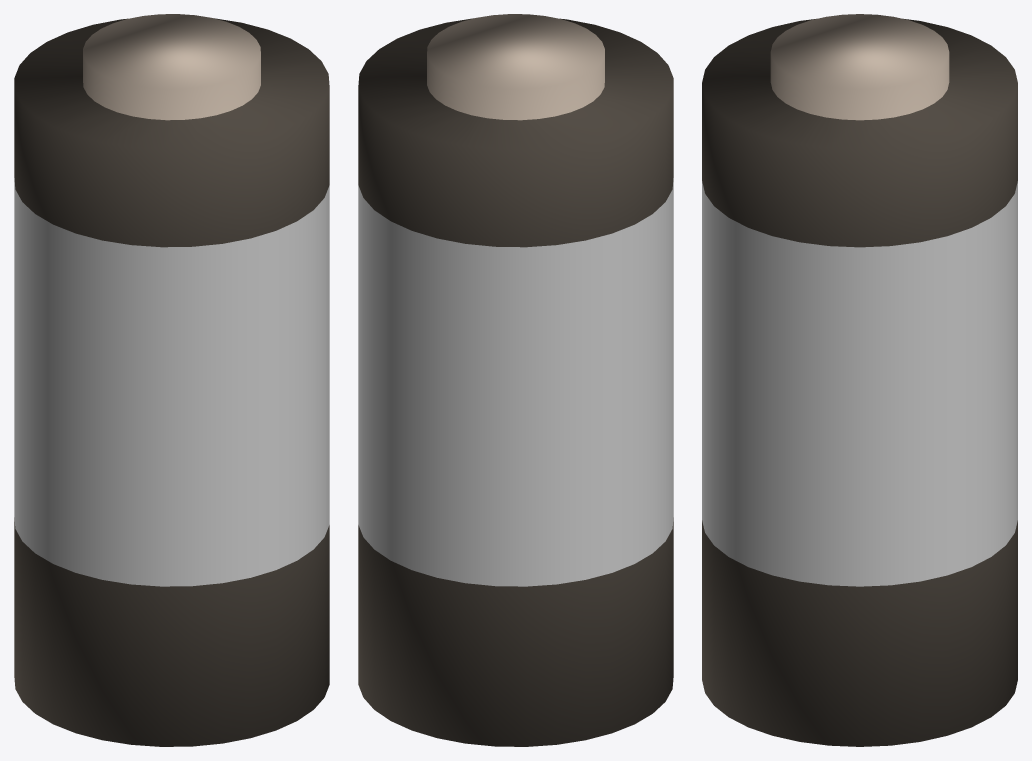
The model's file is battery.gltf.
3 renders of one model, left to right at view 1: azimuth 30°, elevation 25°; view 2: azimuth 150°, elevation 25°; view 3: azimuth 270°, elevation 25°, orthographic.
Parts seen in each view (by area): view 1: battery; view 2: battery; view 3: battery.
Boxes of the visible parts, x1,y1,x2,y2 form: battery: (14, 14, 329, 746); battery: (358, 14, 673, 746); battery: (702, 14, 1017, 746).
Bounding box in the file's own units: 0.1331 × 0.2922 × 0.1331.
